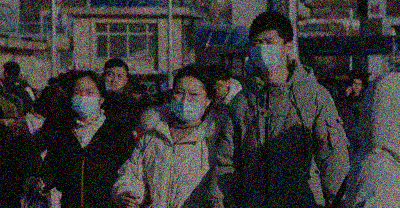with_mask: (171, 85, 208, 123), (250, 33, 287, 70), (69, 86, 103, 119)
without_mask: (105, 69, 126, 91), (214, 79, 228, 97), (354, 79, 364, 94)
